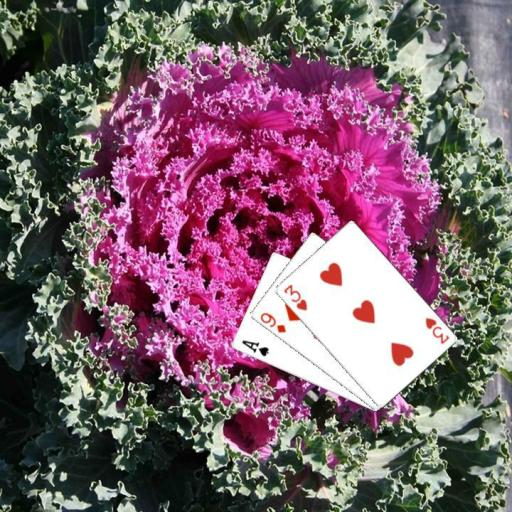3H: (280, 281, 309, 312), (422, 314, 450, 346)
9D: (257, 310, 287, 335)
AS: (238, 337, 270, 358)
